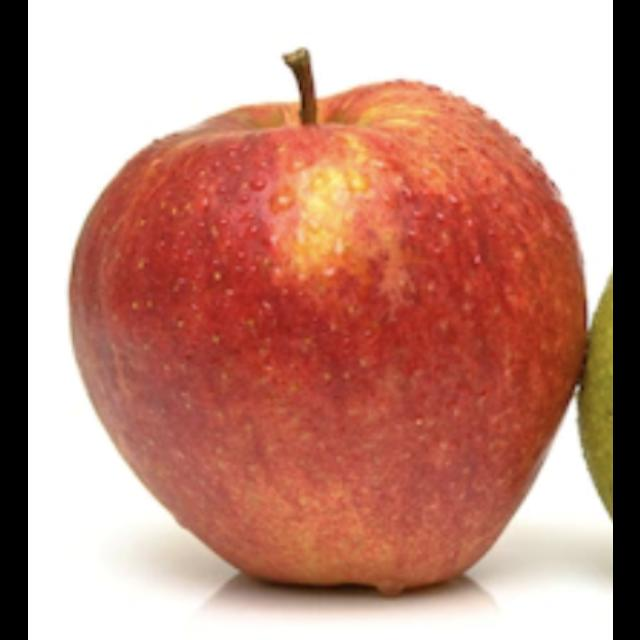Apel Segar: (66, 78, 592, 594)
